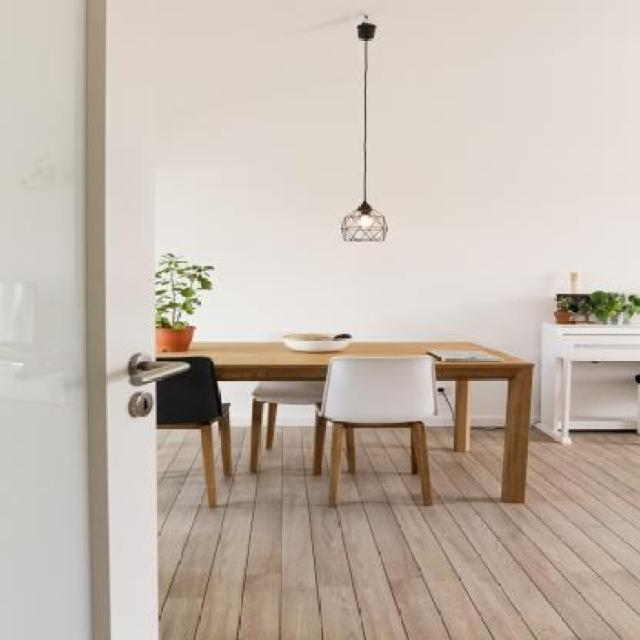floor: (157, 405, 640, 640)
